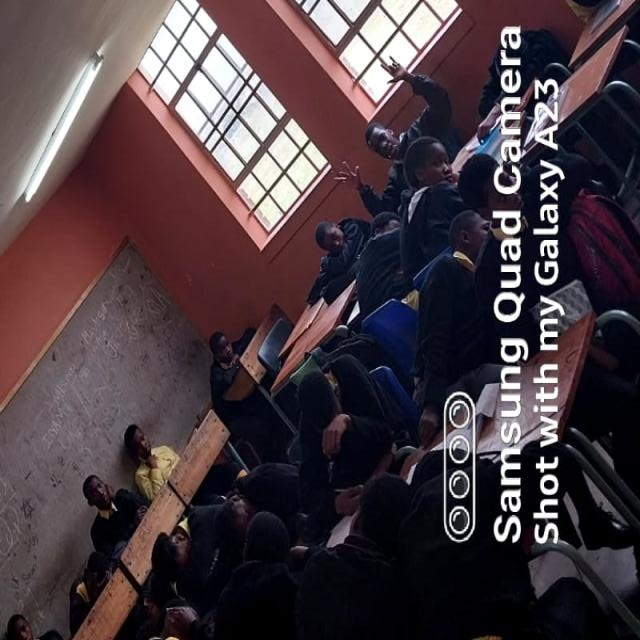fluorescent tube: (2, 11, 124, 224), (0, 0, 2, 158)
